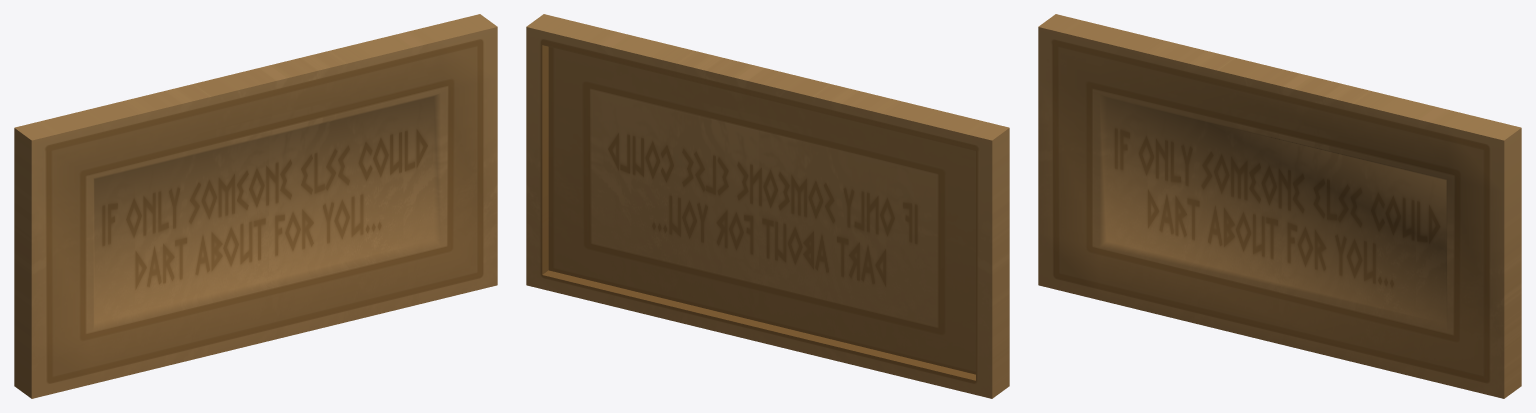
Rendered from AztecHint.fbx.
The picture shows the model from 3 angles, left to right: view 1: azimuth 30°, elevation 25°; view 2: azimuth 150°, elevation 25°; view 3: azimuth 330°, elevation 25°; orthographic projection.
Visible parts, largest first — view 1: Plane; view 2: Plane; view 3: Plane.
Part boxes in pixels (x1,y1,x2,y2): Plane: (14,14,497,398); Plane: (526,14,1009,398); Plane: (1038,14,1521,398).
Bounding box in the file's own units: 800 × 424 × 52.45.
Materials: 1 (1 with a texture image).
